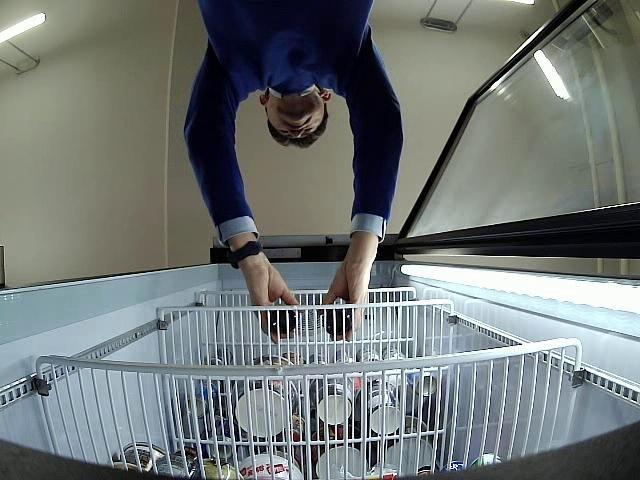17_vita500: (323, 306, 352, 335), (268, 306, 298, 334)
